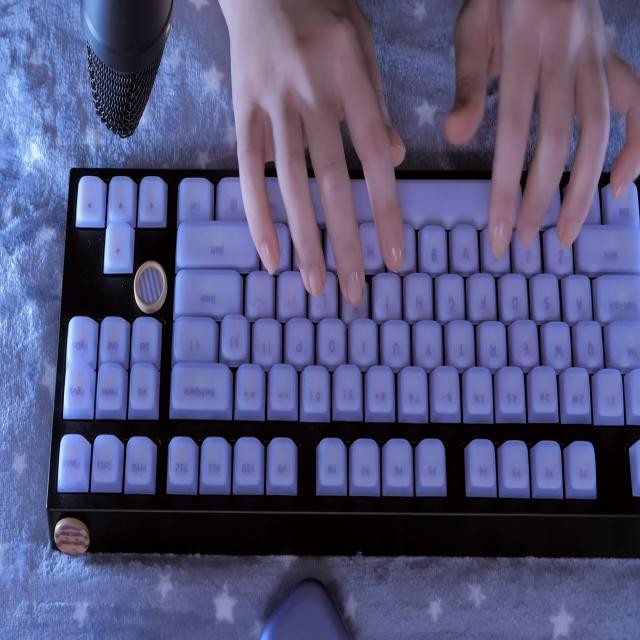keyboard-with-hands: (48, 171, 640, 515)
